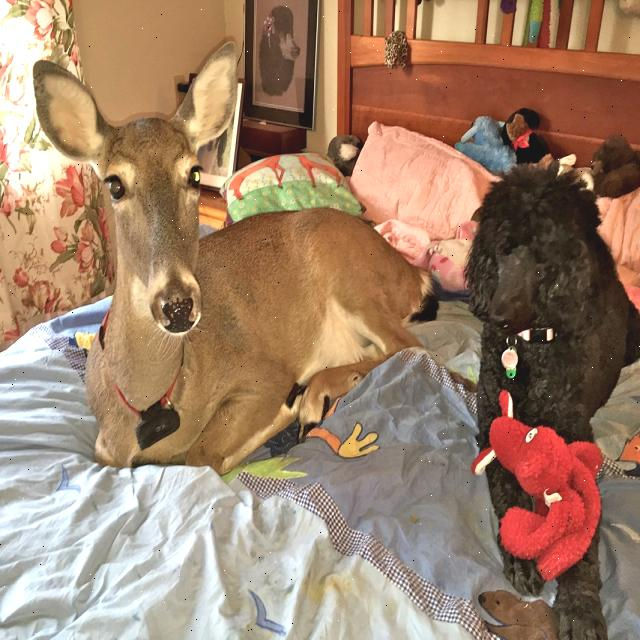deer: (15, 24, 259, 340)
